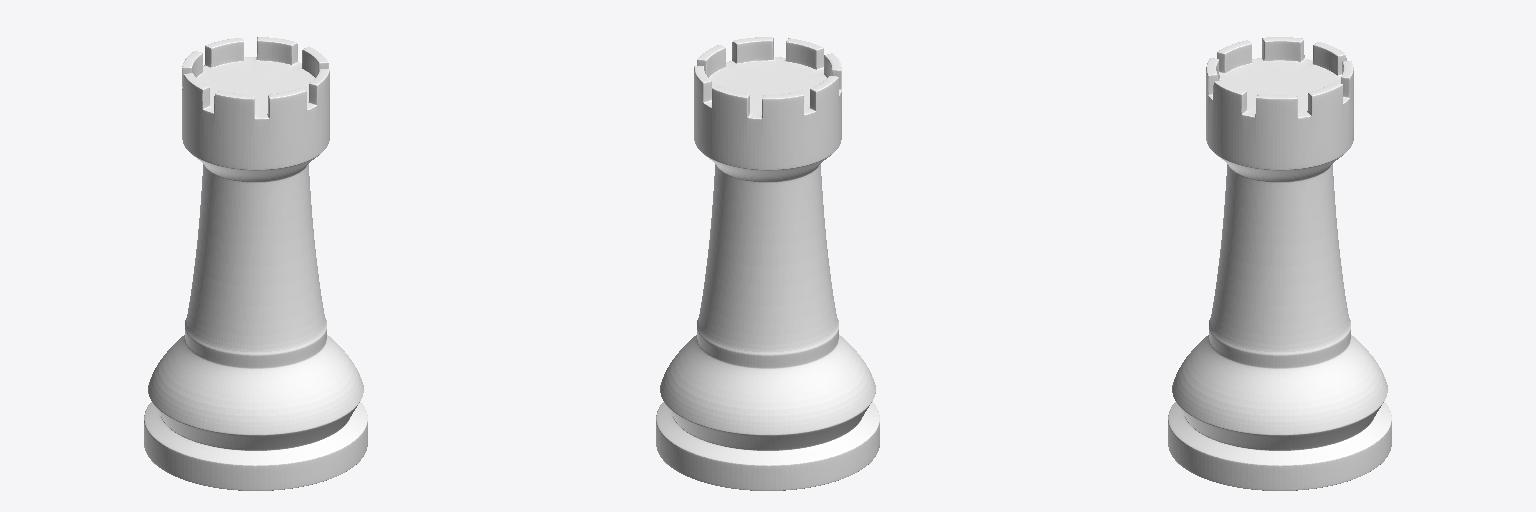
Rendered from rook.obj.
The picture shows the model from 3 angles: view 1: azimuth 30°, elevation 25°; view 2: azimuth 150°, elevation 25°; view 3: azimuth 270°, elevation 25°; orthographic projection.
Visible parts, largest first — view 1: Circle.001; view 2: Circle.001; view 3: Circle.001.
Part boxes in pixels (left/top/right/bottom): Circle.001: left=144, top=37, right=367, bottom=490; Circle.001: left=656, top=37, right=879, bottom=490; Circle.001: left=1168, top=37, right=1391, bottom=490.
Bounding box in the file's own units: 0.6056 × 1.12 × 0.6056.